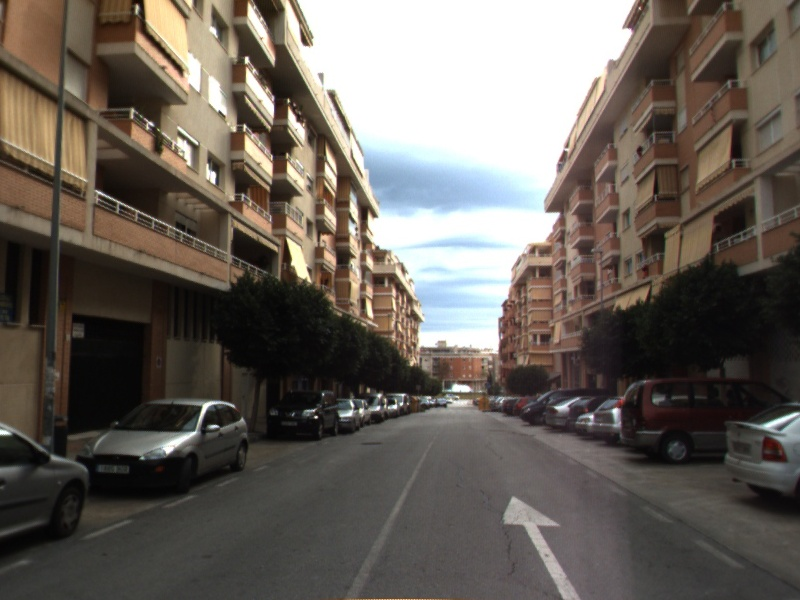STRAIGHT: (497, 493, 584, 600)
